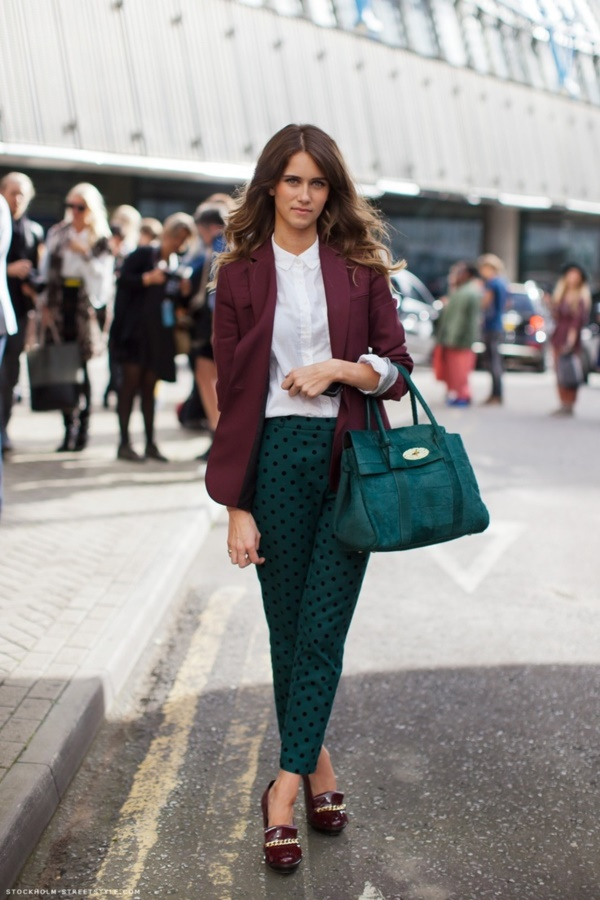F_W_suit jacket: (198, 240, 418, 491)
